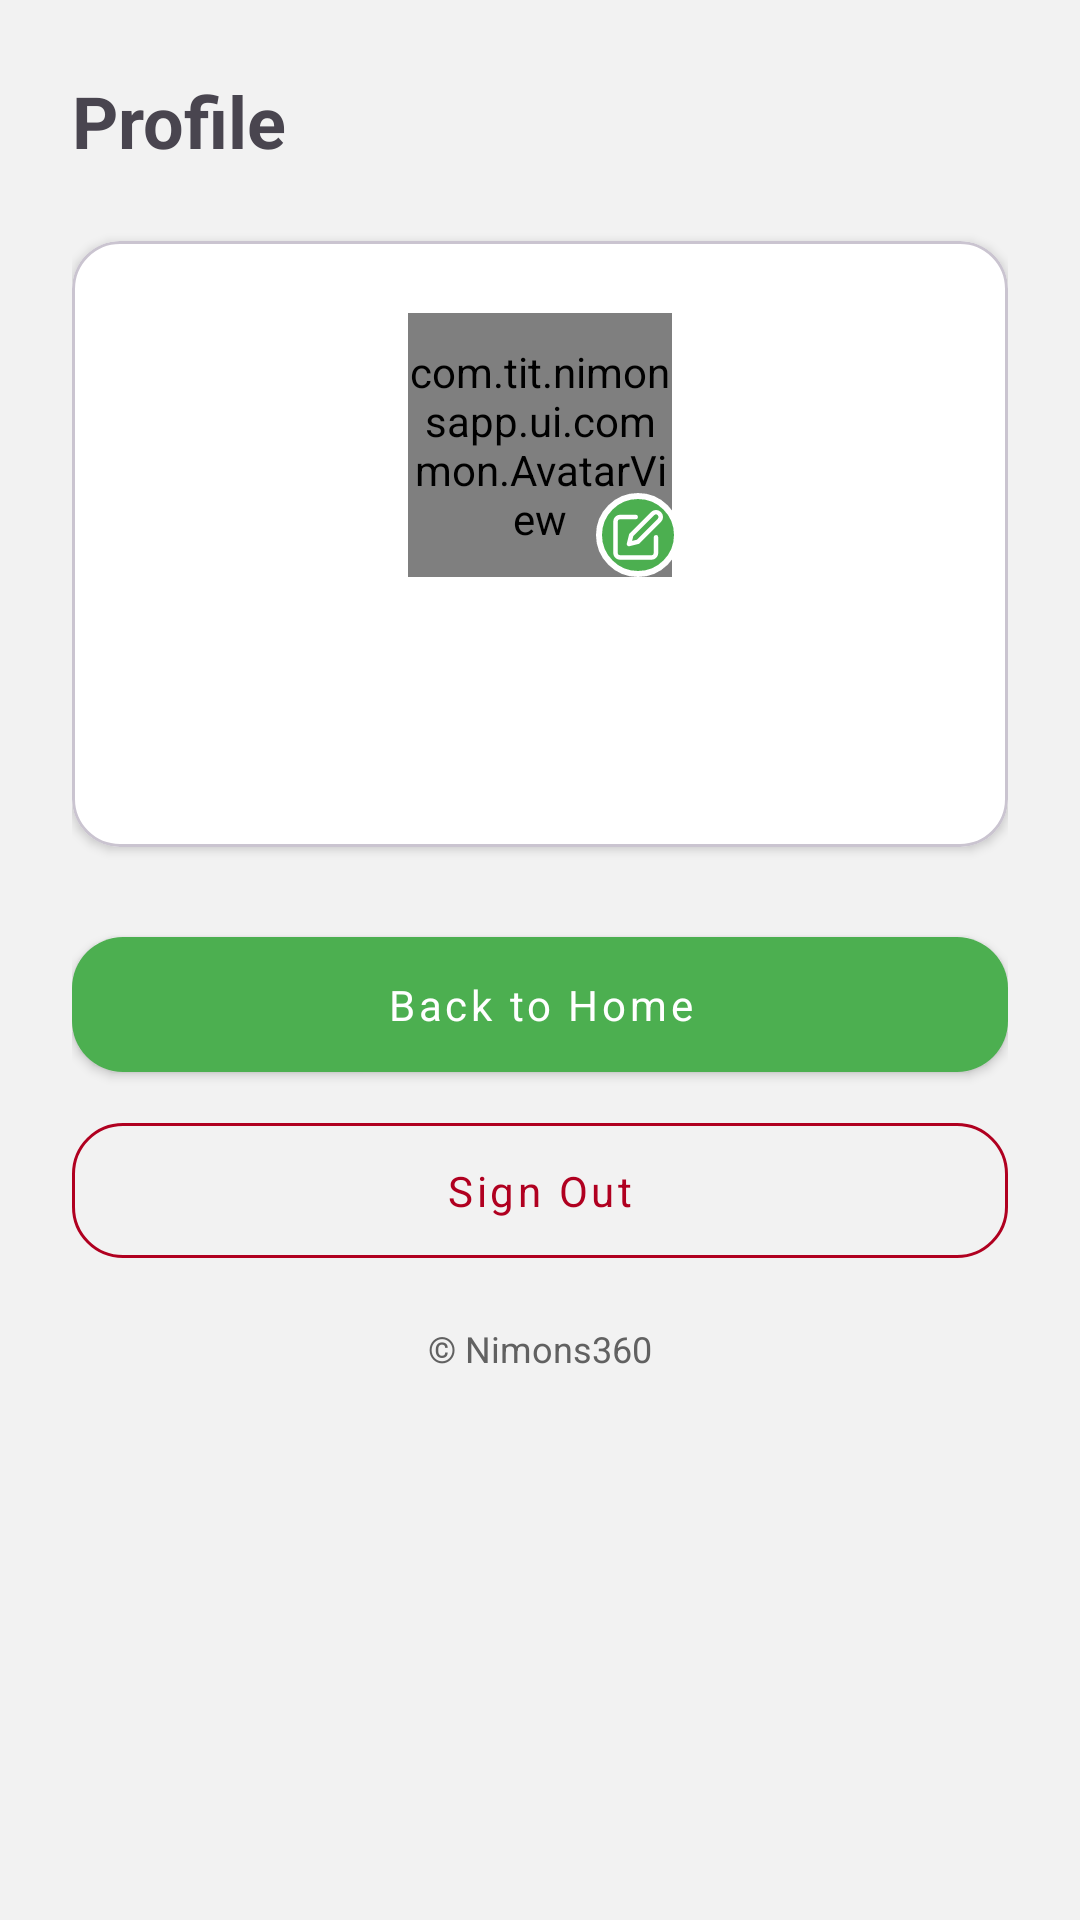

Point at icon controls on the screen. Image size 1080*1920, points as point (x, y).
Edit profile: point (634, 535)
